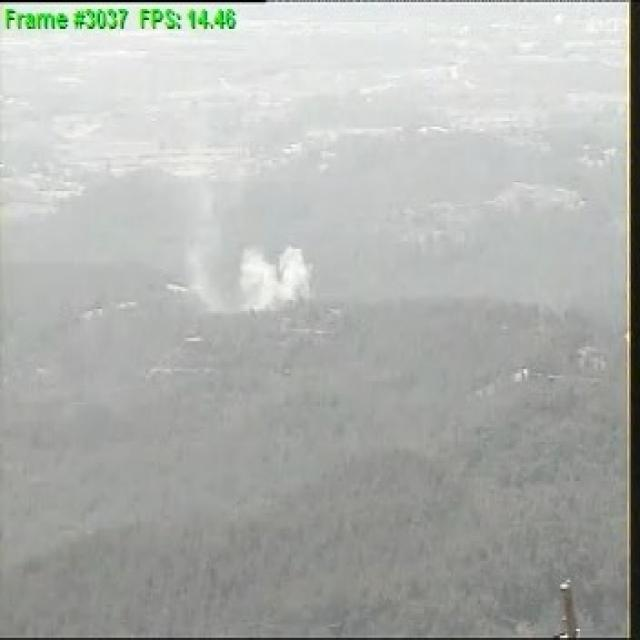smoke: (183, 236, 317, 309)
